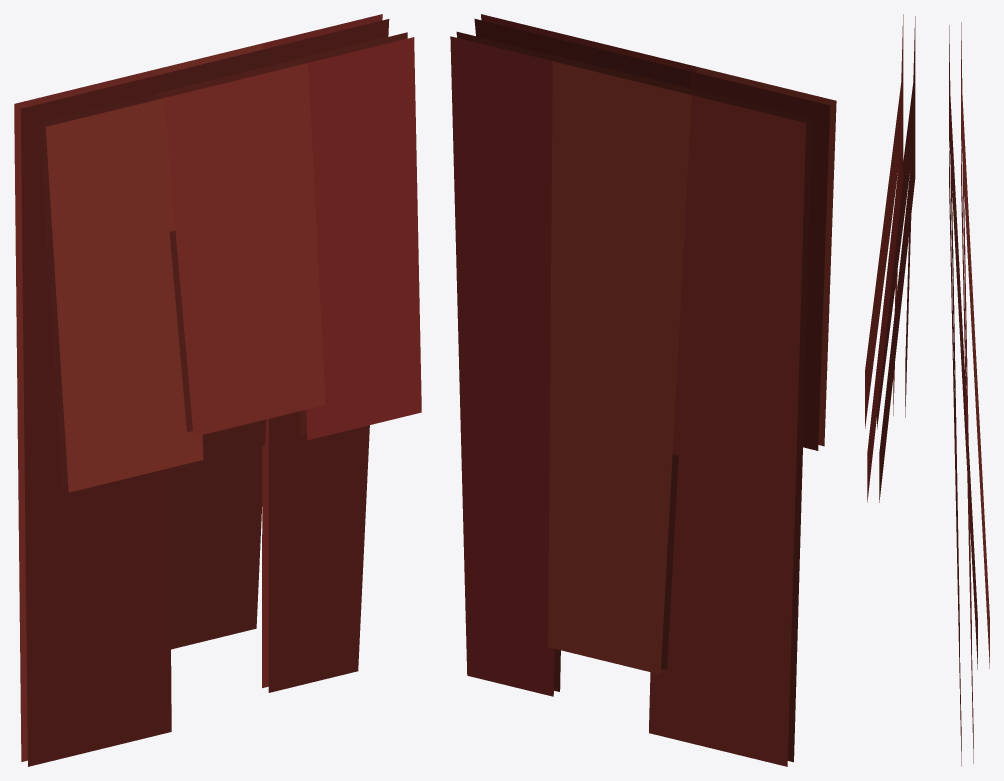
The model's file is drying_rack_carne_3.glb.
3 views of the same model, side by side, from view 1: azimuth 30°, elevation 25°; view 2: azimuth 150°, elevation 25°; view 3: azimuth 270°, elevation 25° (orthographic). The views are drawn at different scales.
Visible parts, largest first — view 1: drying_rack_carne_3; view 2: drying_rack_carne_3; view 3: drying_rack_carne_3.
Boxes of the visible parts, bbox=[...] form: drying_rack_carne_3: bbox=[14, 14, 421, 766]; drying_rack_carne_3: bbox=[450, 14, 836, 766]; drying_rack_carne_3: bbox=[865, 14, 989, 766].
Bounding box in the file's own units: 0.811 × 1.4 × 0.2591.
